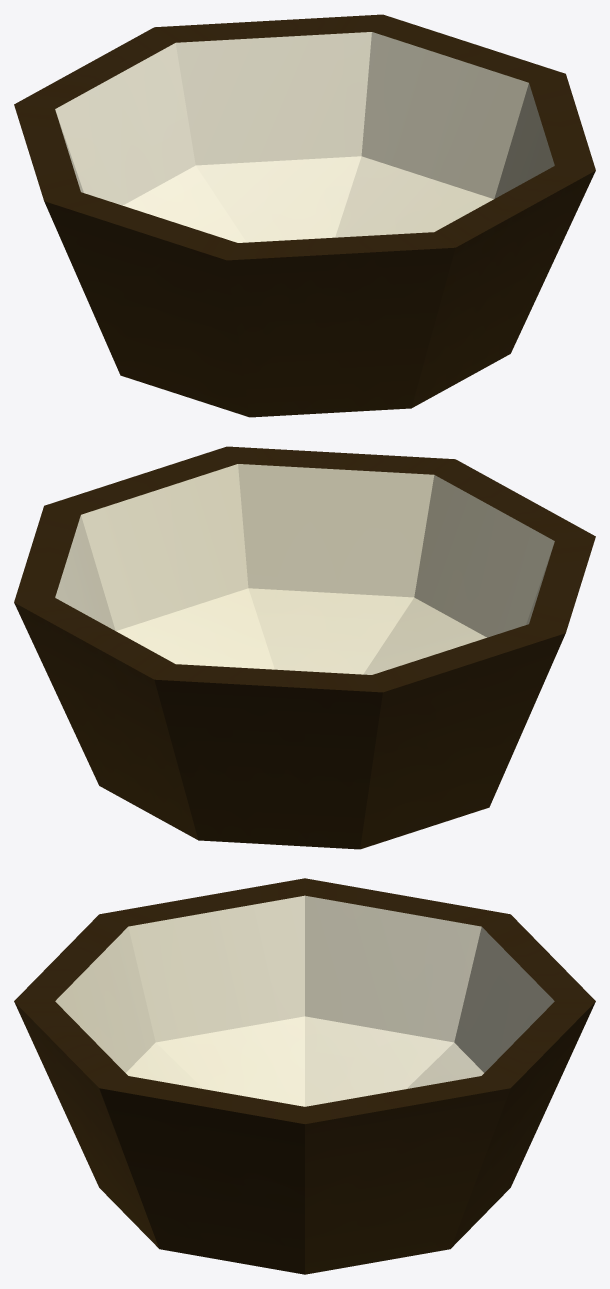
The model's file is Coconut_Halved.fbx.
3 views of the same model, one above another, from view 1: azimuth 30°, elevation 25°; view 2: azimuth 150°, elevation 25°; view 3: azimuth 270°, elevation 25° (orthographic). The views are drawn at different scales.
Parts seen in each view (by area): view 1: Coconut_Halved; view 2: Coconut_Halved; view 3: Coconut_Halved.
Part boxes in pixels (bbox=[...]): Coconut_Halved: bbox=[14, 14, 595, 417]; Coconut_Halved: bbox=[14, 446, 595, 849]; Coconut_Halved: bbox=[14, 878, 595, 1274].
Bounding box in the file's own units: 34.04 × 17.02 × 34.04.
